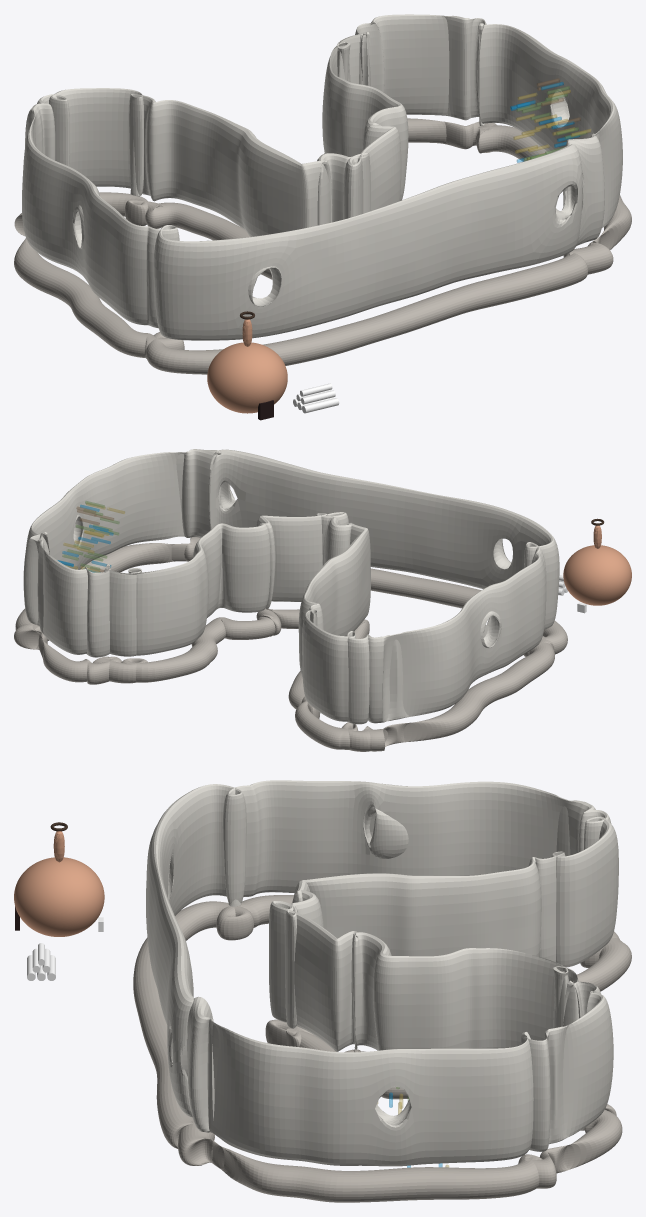
Rendered from riverstone_house_only.glb.
3 views of the same model, one above another, from view 1: azimuth 30°, elevation 25°; view 2: azimuth 150°, elevation 25°; view 3: azimuth 270°, elevation 25° (orthographic). The views are drawn at different scales.
Visible parts, largest first — view 1: CobWalls, Foundation, Tatakua; view 2: CobWalls, Foundation, Tatakua; view 3: CobWalls, Foundation, Tatakua.
Part boxes in pixels (x1,y1,x2,y2): CobWalls: (22,14,622,340); Foundation: (14,118,631,374); Tatakua: (207,342,287,413); CobWalls: (23,449,559,724); Foundation: (14,537,567,751); Tatakua: (563,545,631,605); CobWalls: (146,780,618,1166); Foundation: (133,895,631,1202); Tatakua: (14,857,104,936).
Size of the model in its own units: 13.58 by 3.3 by 12.15.
